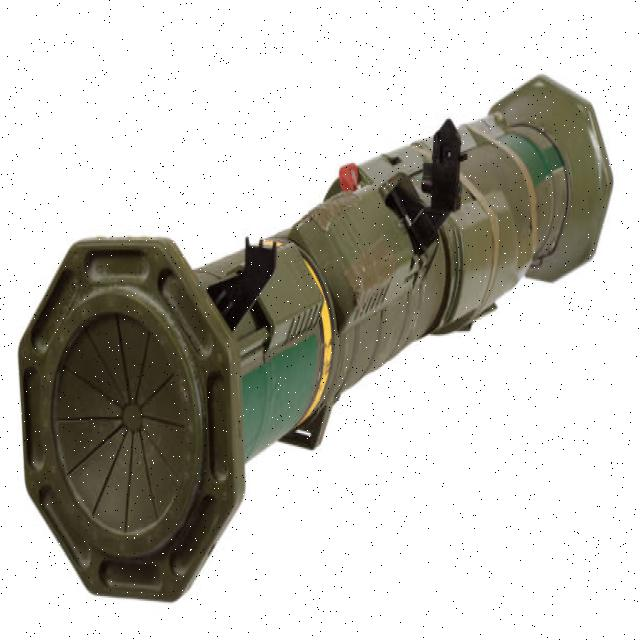bazooka: (4, 57, 621, 627)
